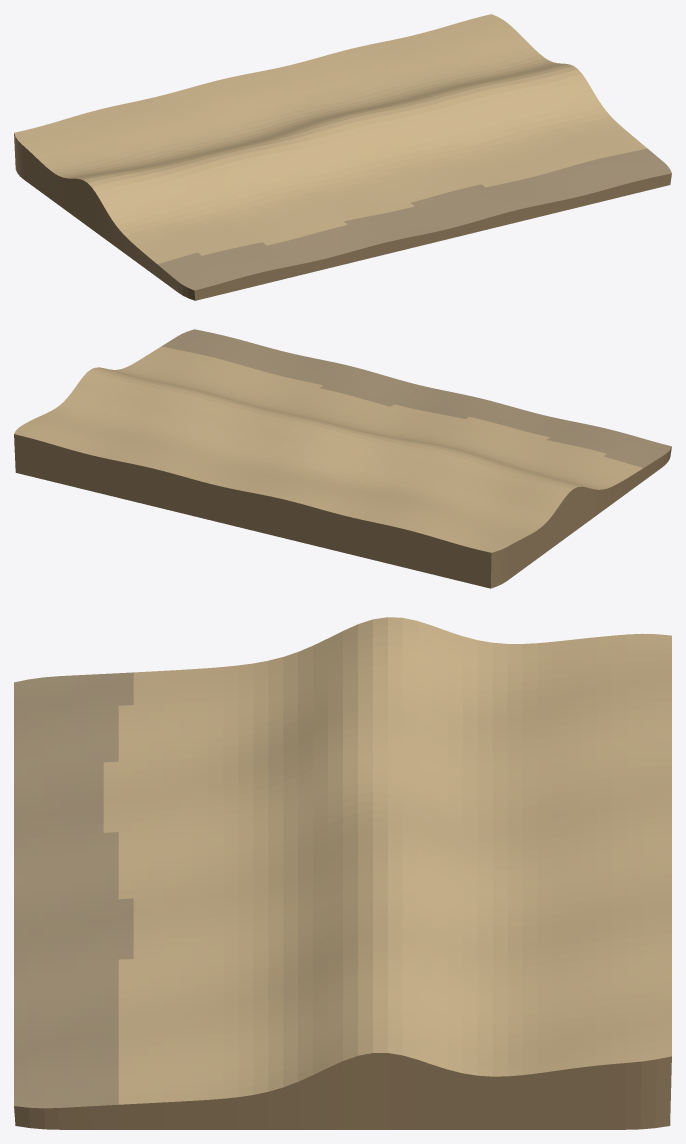
The model's file is beach-ridge.glb.
The picture shows the model from 3 angles, top to bottom: view 1: azimuth 30°, elevation 25°; view 2: azimuth 150°, elevation 25°; view 3: azimuth 270°, elevation 25°; orthographic projection. The views are drawn at different scales.
Visible parts, largest first — view 1: continuous-foreshore-low-ridge-and-inland-crop; view 2: continuous-foreshore-low-ridge-and-inland-crop; view 3: continuous-foreshore-low-ridge-and-inland-crop.
Boxes of the visible parts, x1,y1,x2,y2 form: continuous-foreshore-low-ridge-and-inland-crop: [14, 14, 671, 300]; continuous-foreshore-low-ridge-and-inland-crop: [14, 329, 671, 588]; continuous-foreshore-low-ridge-and-inland-crop: [14, 617, 671, 1129].
Size of the model in its own units: 14 by 1.23 by 9.
